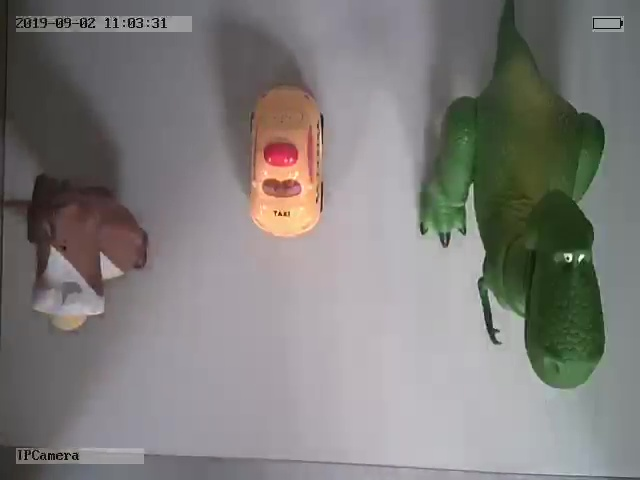car: (247, 84, 328, 241)
horse: (4, 171, 148, 332)
rex: (418, 5, 607, 391)
